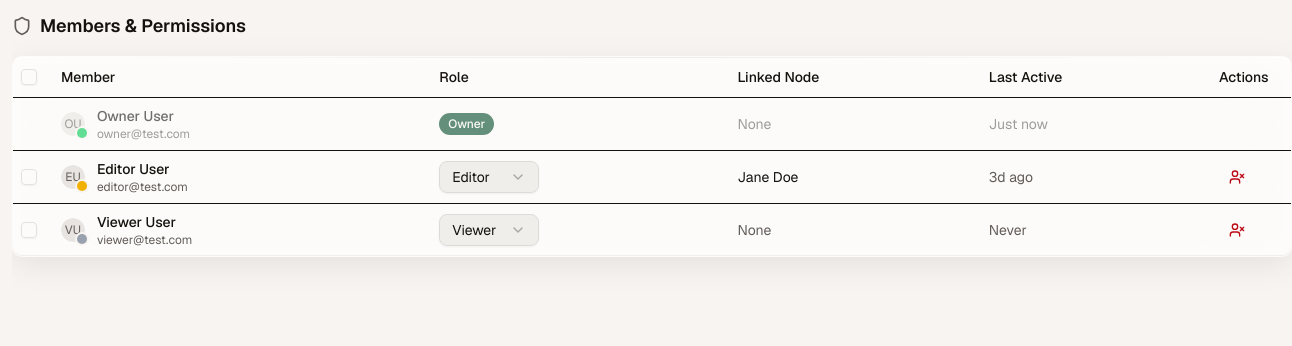
Test: PermissionManager › shows bulk action bar when items are selected
Note: Select the editor checkbox
Click the checkbox named "Select Editor User".
click(29, 176)  # box [21, 168, 37, 184]
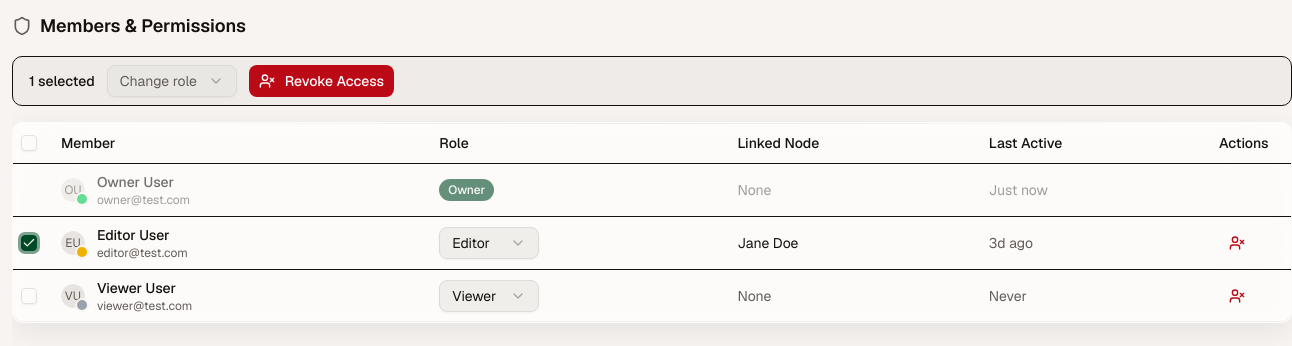
expect the text "1 selected" is shown: met, box [29, 71, 95, 91]
expect the button "Revoke Access" is shown: met, box [249, 65, 394, 97]
